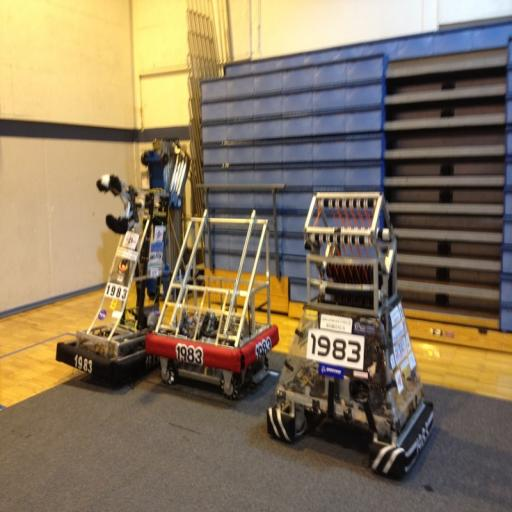robot: (270, 186, 430, 473), (48, 168, 166, 371), (145, 205, 281, 369)
